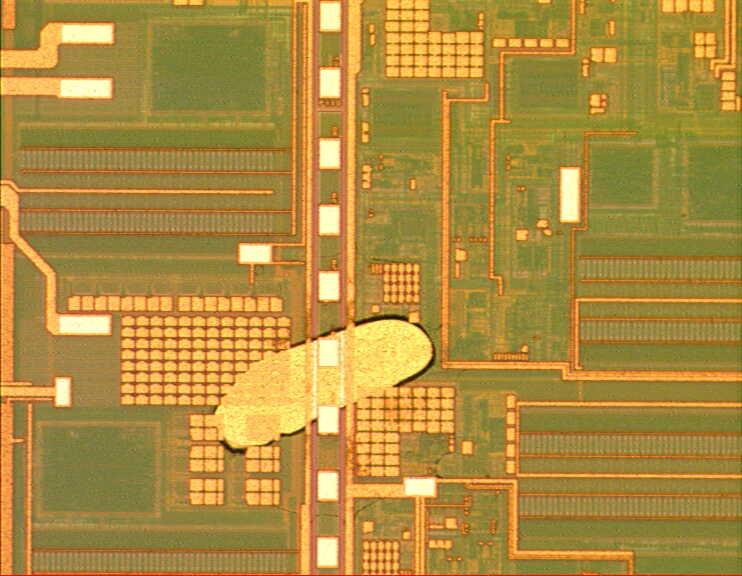BLOCK ETCH: (205, 308, 444, 457)
